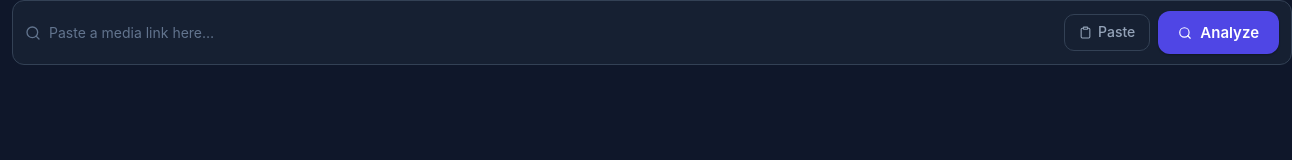
Test: UrlInput — invalid URL › shows a validation error for a non-URL string
In the field named "media url": [553, 33] box [49,23,1056,43], type "not-a-url"
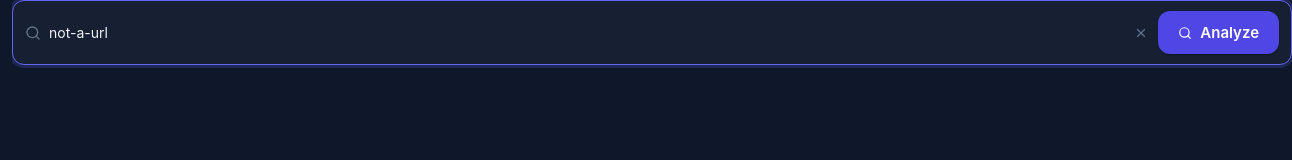
Click the button "Analyze": [1219, 33] box [1158,11,1279,54]
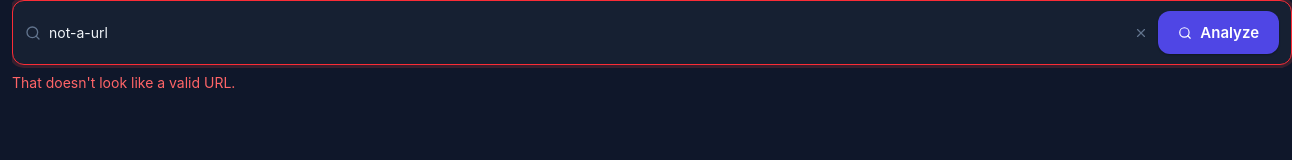
Expected: the message shows "valid URL", [12,74,235,91]
